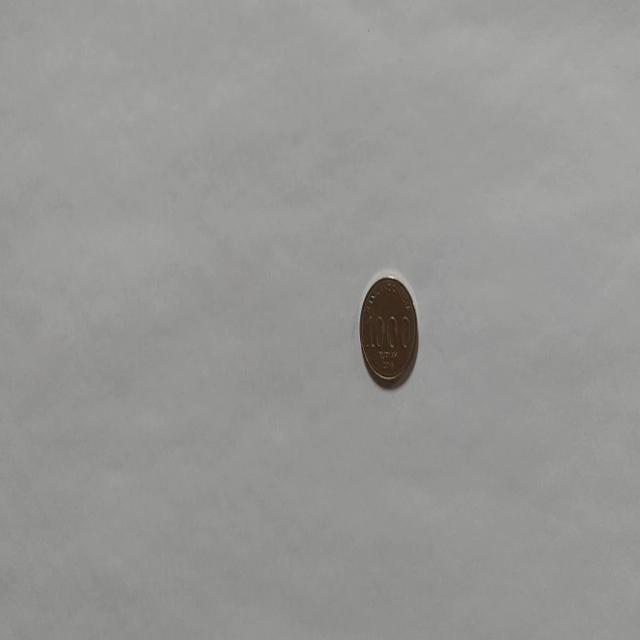seribu rupiah koin: (358, 272, 418, 387)
